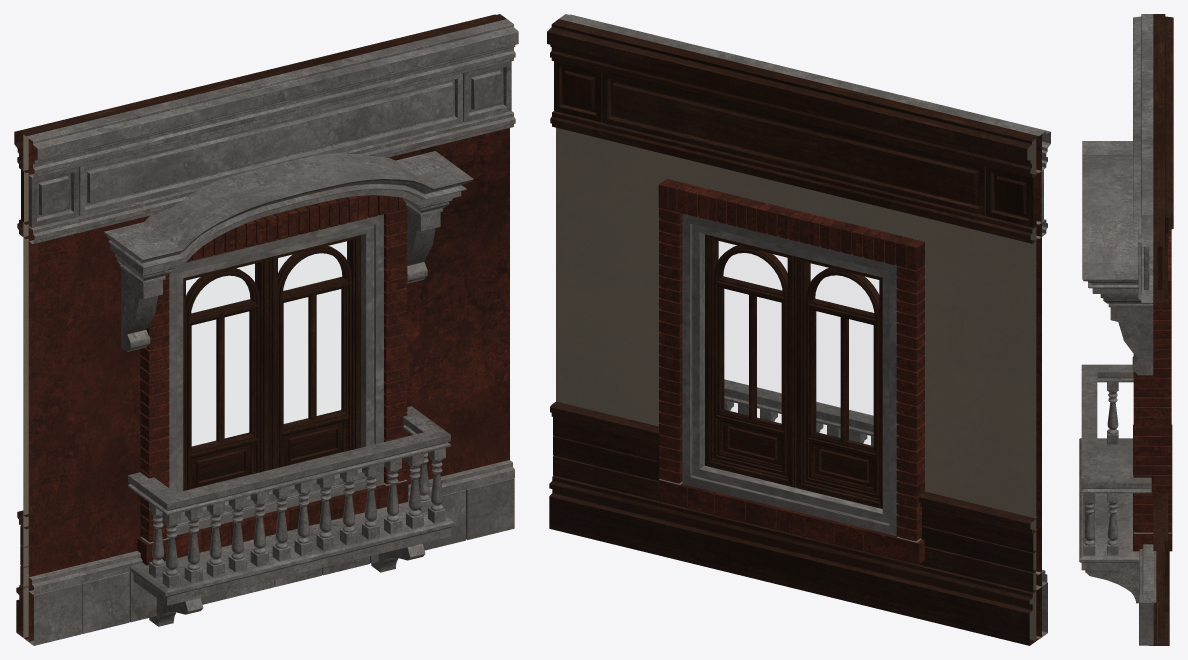
The model's file is SK6 WINDOW 2 BALCONY.fbx.
The picture shows the model from 3 angles, left to right: view 1: azimuth 30°, elevation 25°; view 2: azimuth 150°, elevation 25°; view 3: azimuth 270°, elevation 25°; orthographic projection. The views are drawn at different scales.
Visible parts, largest first — view 1: SK6 WINDOW 2 BALCONY; view 2: SK6 WINDOW 2 BALCONY; view 3: SK6 WINDOW 2 BALCONY.
Part boxes in pixels (left/top/right/bottom): SK6 WINDOW 2 BALCONY: left=14, top=14, right=518, bottom=645; SK6 WINDOW 2 BALCONY: left=547, top=14, right=1050, bottom=645; SK6 WINDOW 2 BALCONY: left=1079, top=14, right=1173, bottom=645.
Size of the model in its own units: 400 by 408 by 79.09.
